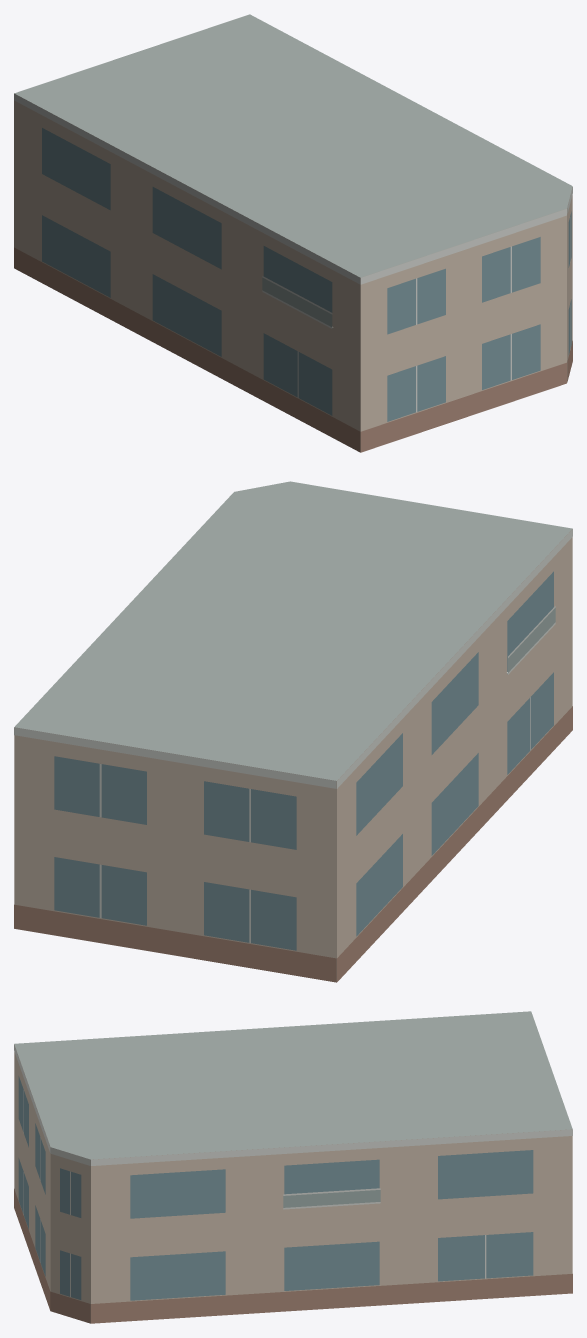
The model's file is survey-upis-32763473.glb.
3 views of the same model, one above another, from view 1: azimuth 30°, elevation 25°; view 2: azimuth 150°, elevation 25°; view 3: azimuth 270°, elevation 25° (orthographic). The views are drawn at different scales.
Visible parts, largest first — view 1: survey-upis-32763473.tmp; view 2: survey-upis-32763473.tmp; view 3: survey-upis-32763473.tmp.
Boxes of the visible parts, x1=… form: survey-upis-32763473.tmp: x1=14, y1=14, x2=572, y2=452; survey-upis-32763473.tmp: x1=14, y1=481, x2=572, y2=982; survey-upis-32763473.tmp: x1=14, y1=1011, x2=572, y2=1323.
Size of the model in its own units: 11.84 by 6.1 by 18.84.
